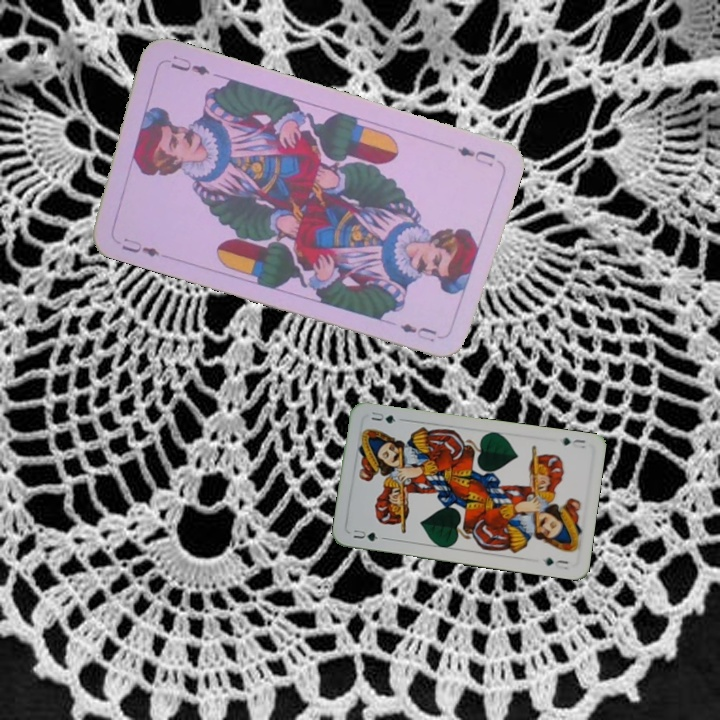EU: (453, 142, 498, 170), (118, 234, 163, 259)
GU: (349, 525, 381, 544), (558, 434, 588, 451)
